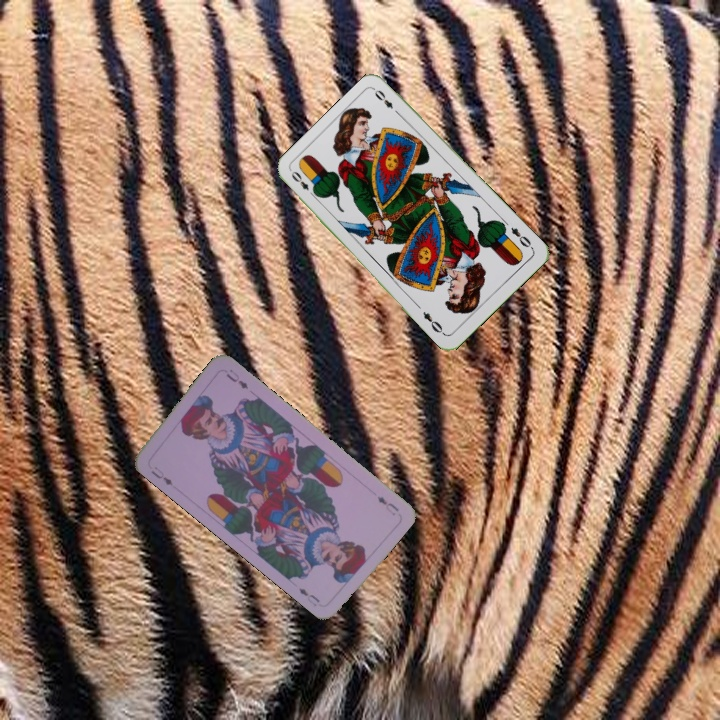EO: (287, 167, 319, 200), (507, 223, 536, 252)
EU: (147, 462, 175, 488), (373, 492, 401, 518)
